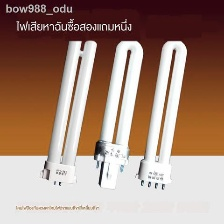light_bulb: (36, 38, 98, 188), (133, 38, 189, 192), (91, 39, 144, 192)
